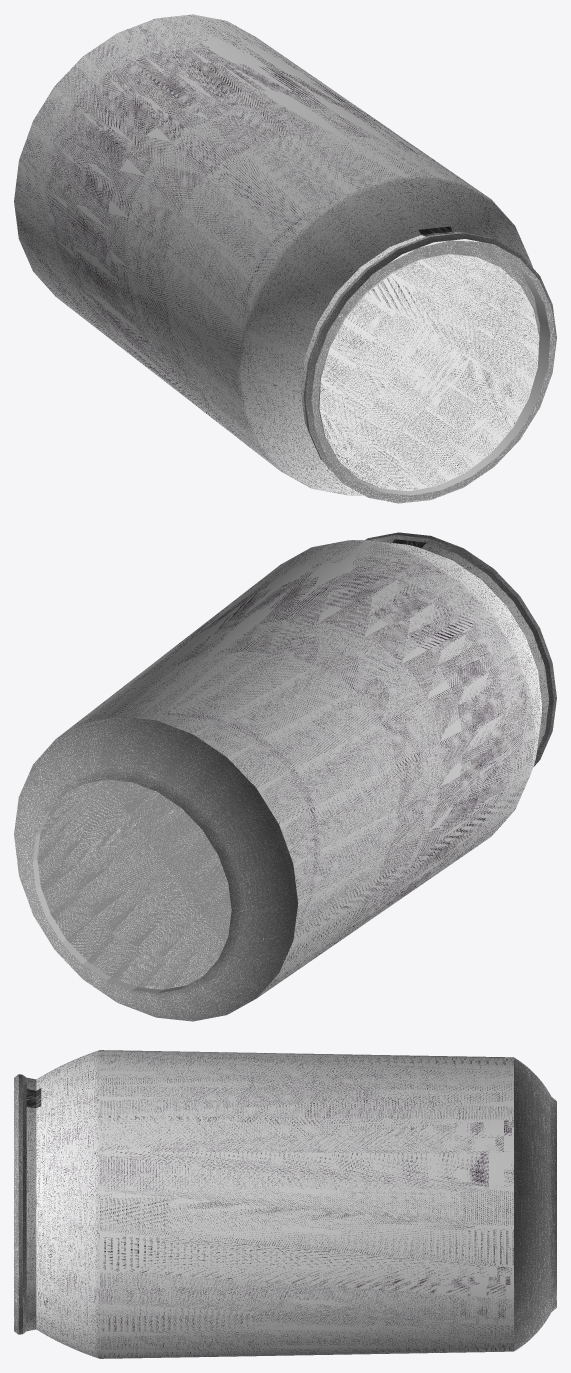
Rendered from model_align.obj.
3 renders of one model, top to bottom at view 1: azimuth 30°, elevation 25°; view 2: azimuth 150°, elevation 25°; view 3: azimuth 270°, elevation 25°, orthographic. The views are drawn at different scales.
Parts seen in each view (by area): view 1: mesh1_mesh1-geometry, mesh2_mesh2-geometry; view 2: mesh1_mesh1-geometry; view 3: mesh1_mesh1-geometry.
Boxes of the visible parts, x1,y1,x2,y2 form: mesh1_mesh1-geometry: (14,14,556,503); mesh2_mesh2-geometry: (318,253,539,491); mesh1_mesh1-geometry: (14,532,556,1021); mesh1_mesh1-geometry: (14,1050,556,1358).
Size of the model in its own units: 0.0622 by 0.0622 by 0.109.
